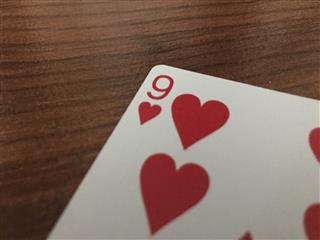NineOfHearts: (43, 63, 320, 240)
